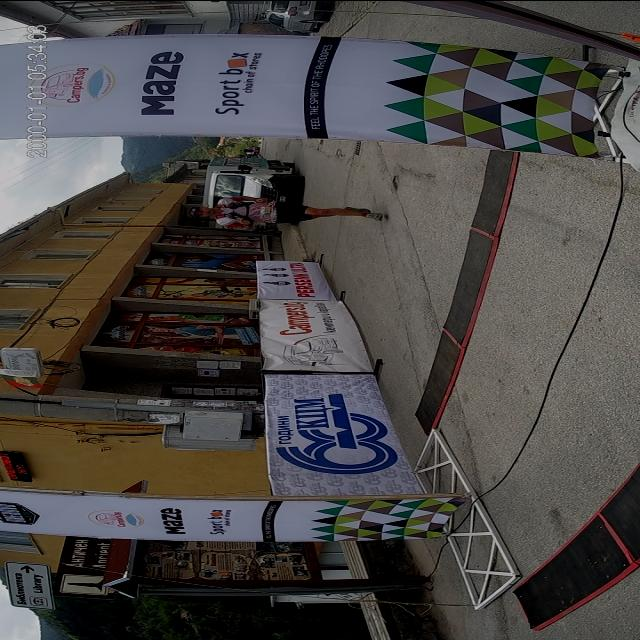runner: (177, 182, 410, 234)
